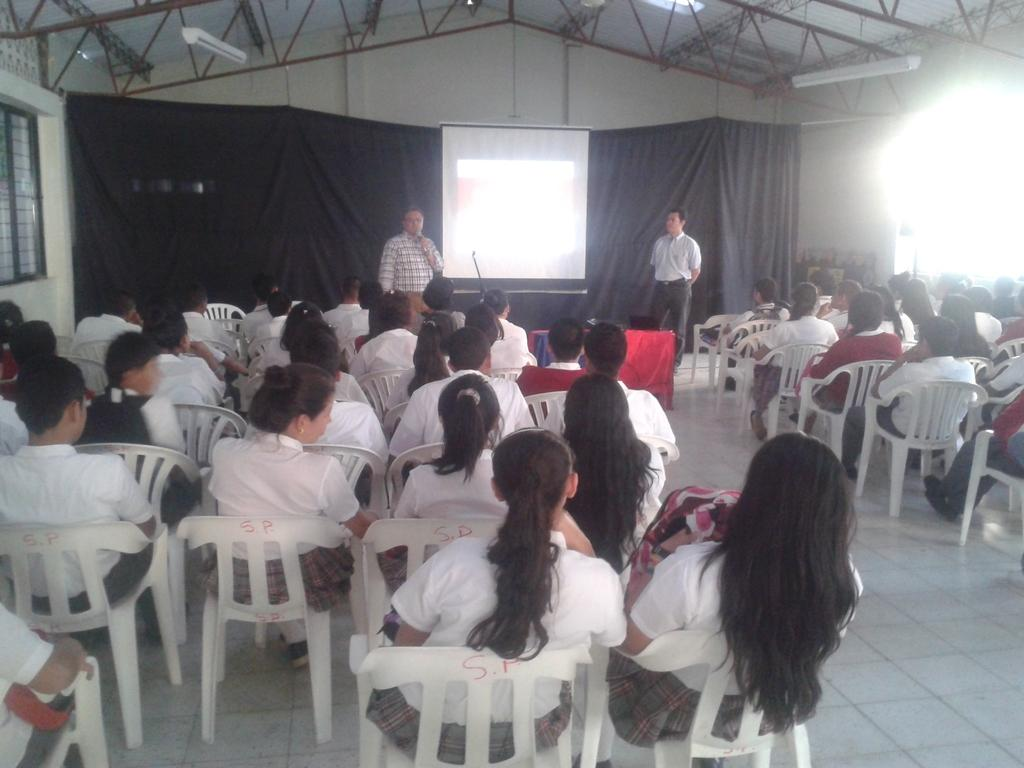Chair: (175, 514, 350, 746), (0, 520, 177, 749), (353, 641, 597, 767), (855, 379, 988, 518), (796, 358, 896, 463), (691, 313, 742, 387), (523, 389, 567, 435)
Computer-monitor: (436, 119, 593, 293)
